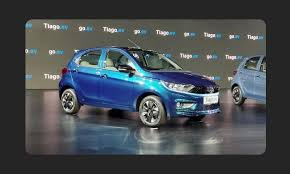Tiago: (57, 46, 222, 134)
